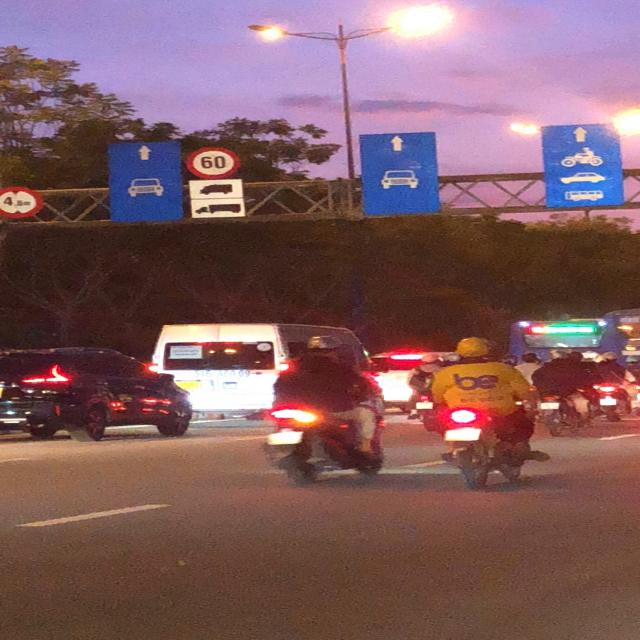Bien bao han che chieu cao: (0, 184, 45, 226)
Bien bao toc do toi da cho phep: (180, 144, 254, 180)
